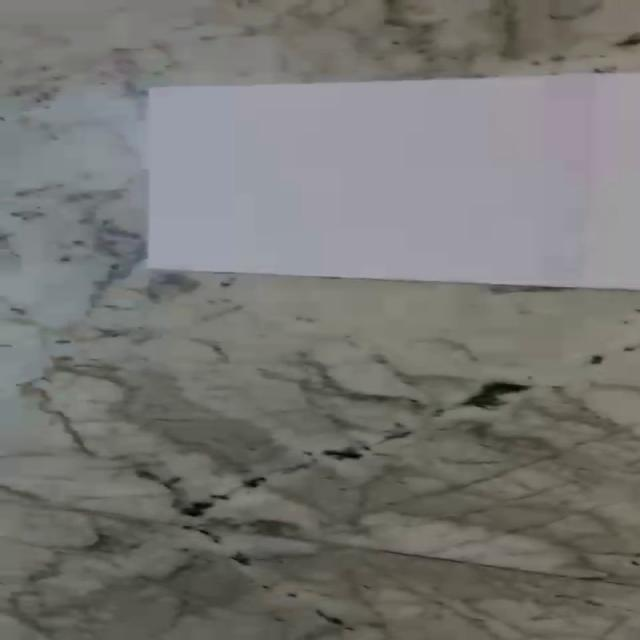road: (145, 72, 640, 291)
